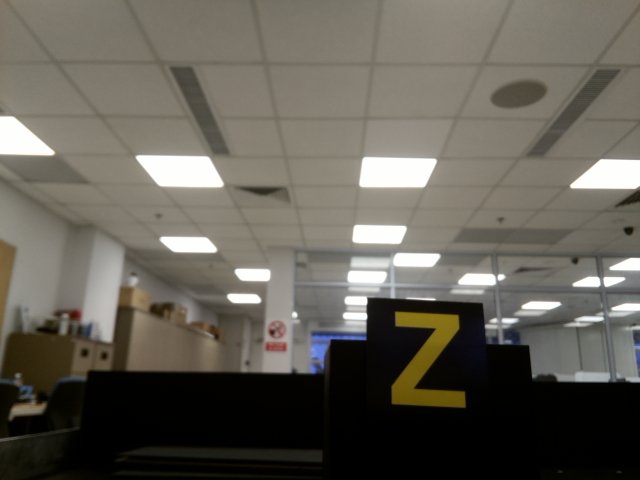z: (382, 306, 474, 411)
